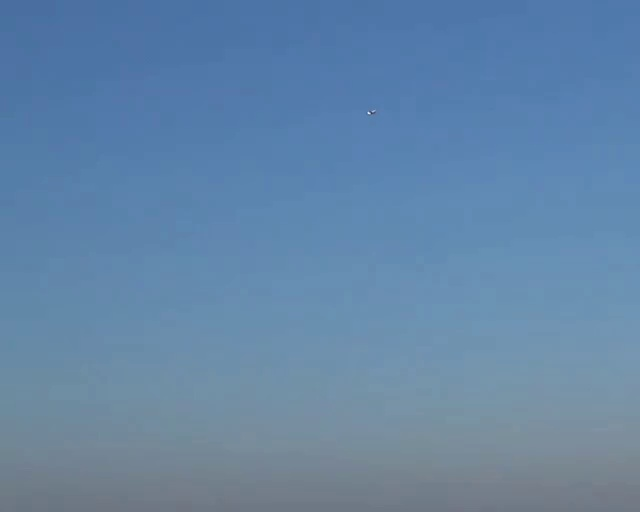AIRPLANE: (346, 93, 362, 105)
